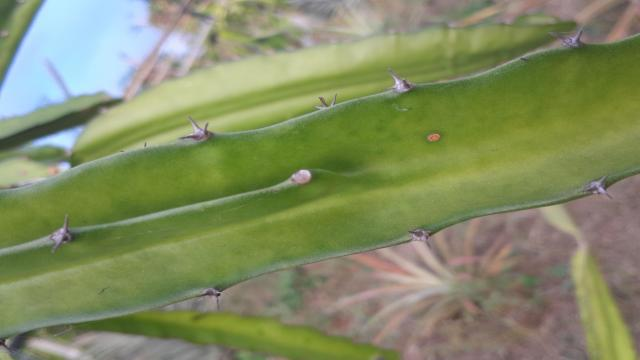stemcanker: (424, 129, 444, 145)
